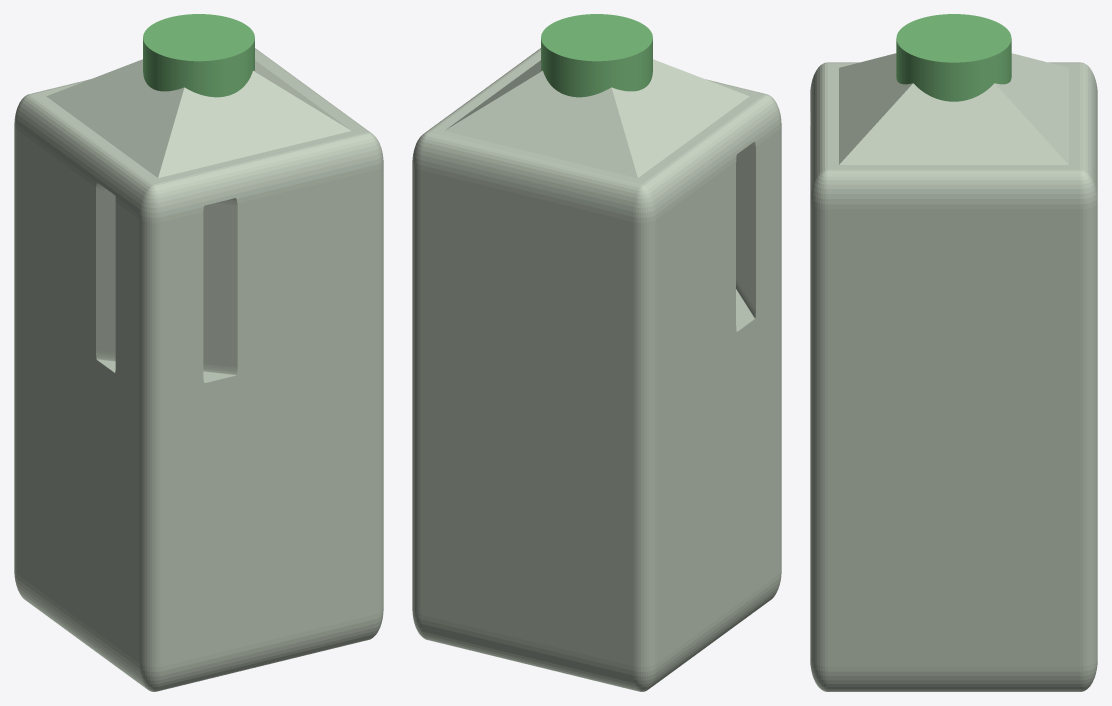
Rendered from lime Milk.glb.
3 renders of one model, left to right at view 1: azimuth 30°, elevation 25°; view 2: azimuth 150°, elevation 25°; view 3: azimuth 270°, elevation 25°, orthographic. The views are drawn at different scales.
Parts seen in each view (by area): view 1: Mesh_Mesh_head_geo.001_lambert2SG.001; view 2: Mesh_Mesh_head_geo.001_lambert2SG.001; view 3: Mesh_Mesh_head_geo.001_lambert2SG.001.
Boxes of the visible parts, bbox=[...] form: Mesh_Mesh_head_geo.001_lambert2SG.001: bbox=[14, 14, 383, 691]; Mesh_Mesh_head_geo.001_lambert2SG.001: bbox=[412, 14, 781, 691]; Mesh_Mesh_head_geo.001_lambert2SG.001: bbox=[810, 14, 1097, 691].
Size of the model in its own units: 0.01 by 0.023 by 0.01.
